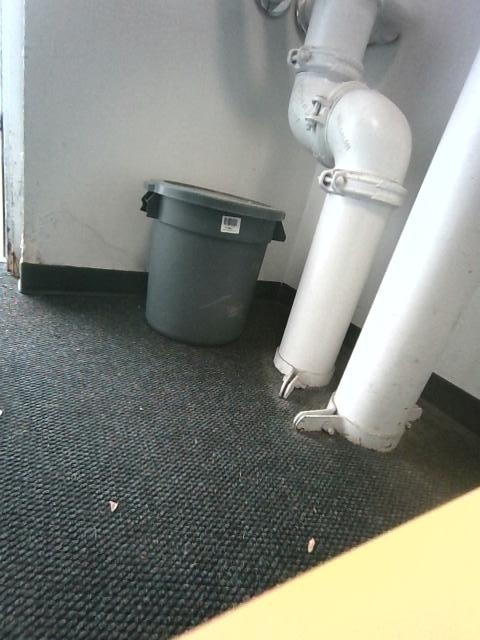ball: (274, 0, 411, 397), (141, 180, 284, 344)
